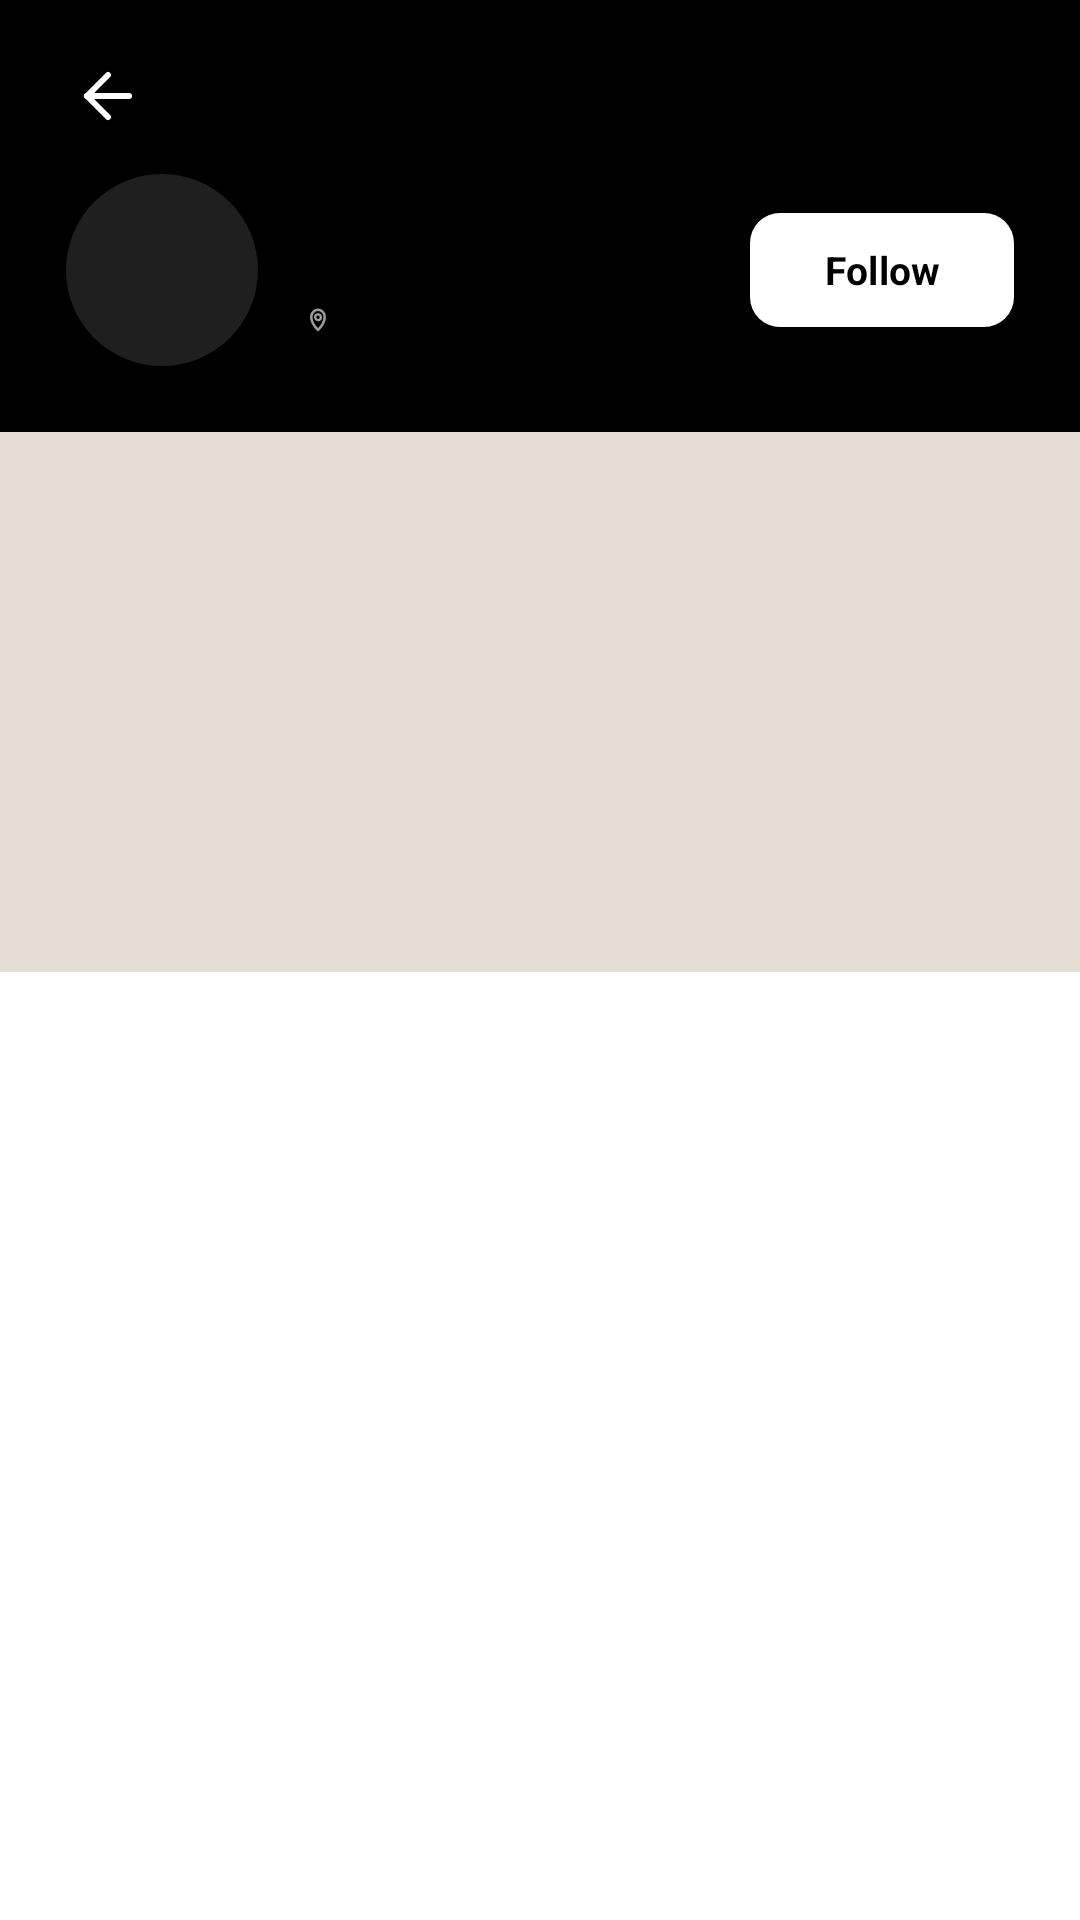

Icons on this 1080*1920 Android screen, each with its box as detection(x1, y1, x2, y2):
Back: detection(84, 72, 132, 120)
